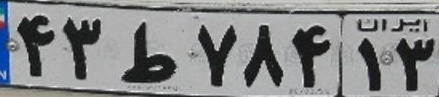character: (115, 18, 181, 89), (58, 7, 106, 80), (287, 19, 334, 92), (192, 19, 241, 88), (12, 6, 57, 79), (242, 20, 287, 90), (392, 32, 436, 97), (354, 33, 385, 97)
